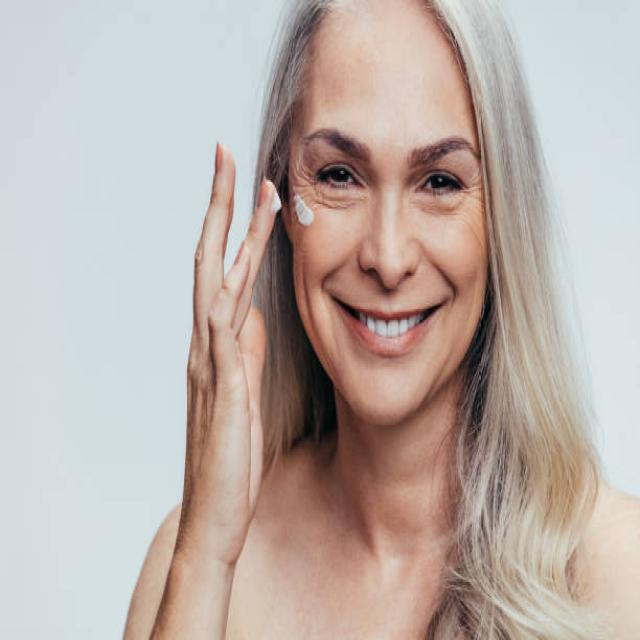Dry-Skin: (462, 165, 489, 304)
